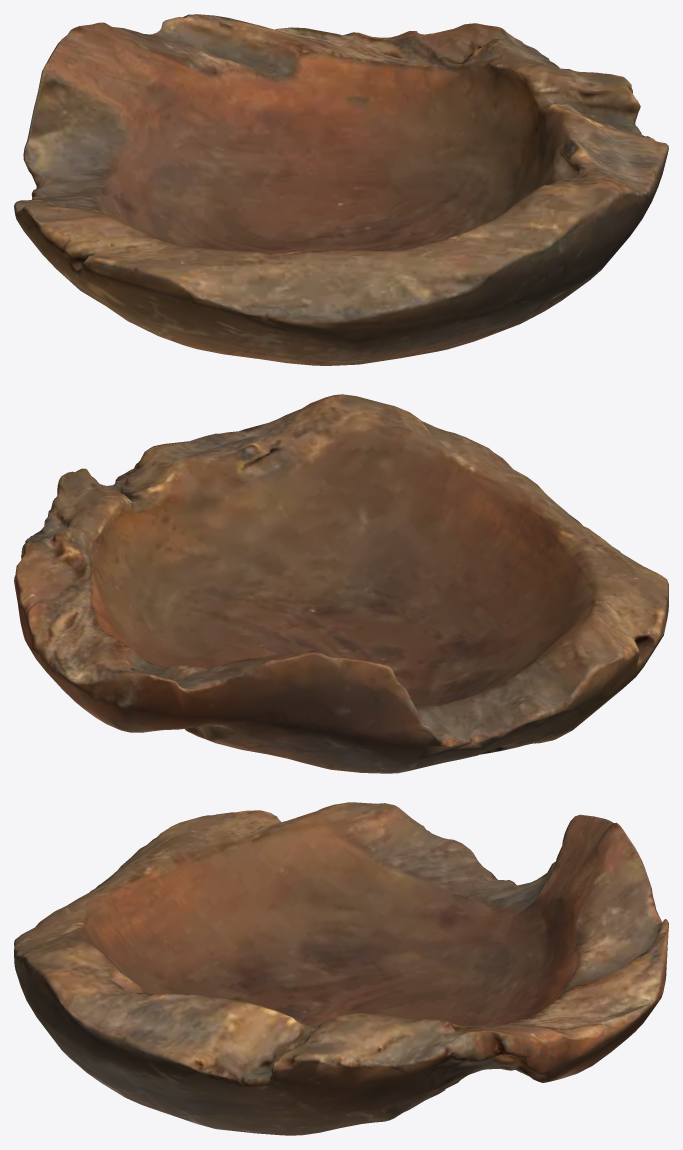
Rendered from bowl.glb.
The picture shows the model from 3 angles, top to bottom: view 1: azimuth 30°, elevation 25°; view 2: azimuth 150°, elevation 25°; view 3: azimuth 270°, elevation 25°; orthographic projection. The views are drawn at different scales.
Parts seen in each view (by area): view 1: wooden_bowl_01; view 2: wooden_bowl_01; view 3: wooden_bowl_01.
Boxes of the visible parts, x1,y1,x2,y2 form: wooden_bowl_01: (14, 14, 668, 365); wooden_bowl_01: (14, 394, 668, 773); wooden_bowl_01: (14, 802, 668, 1135).
Bounding box in the file's own units: 0.313 × 0.0937 × 0.3092.
Materials: 1 (1 with a texture image).
